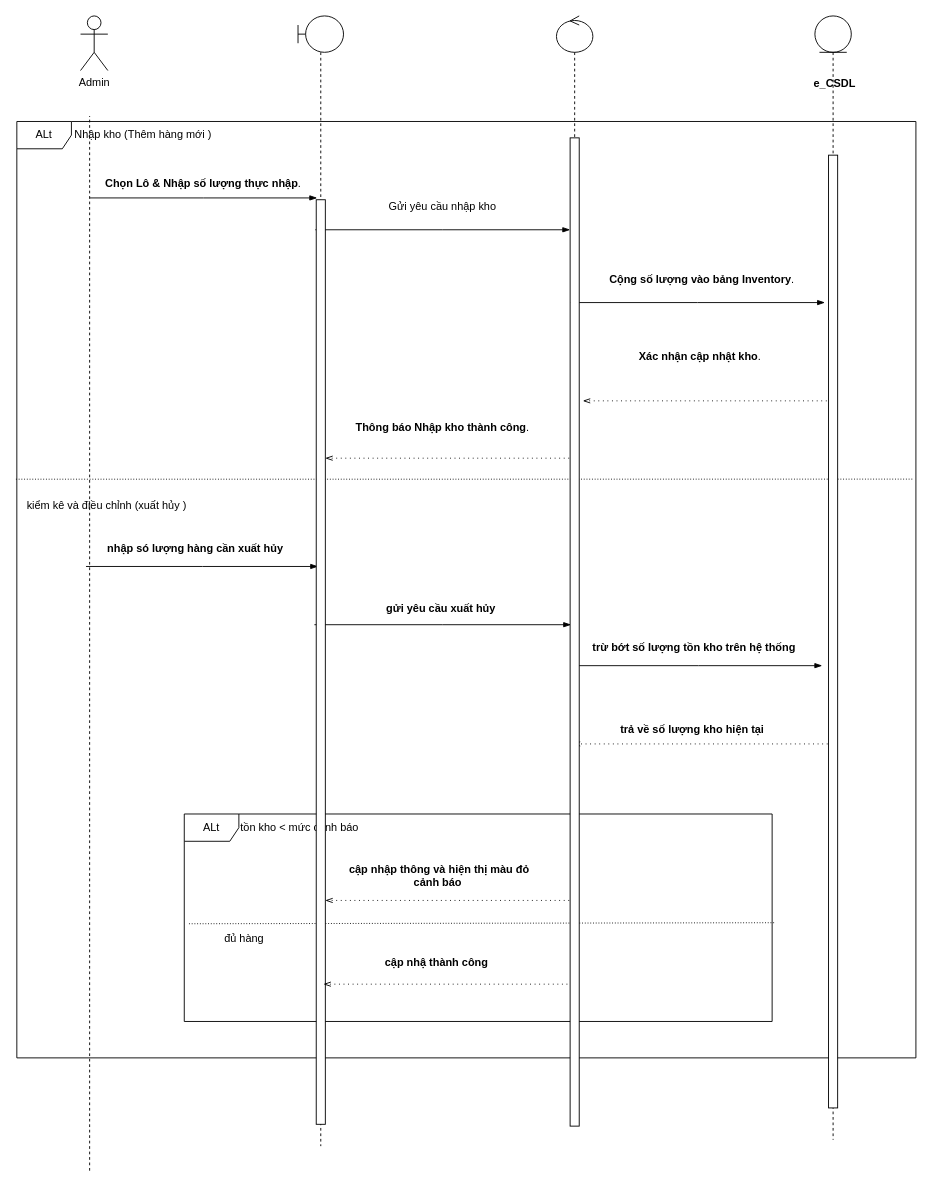
Some shapes in this 932 by 1188 pixel diagram are drawn without their labels. The shapes that lost their labels are listed below. From the top down, each one's box as (x1, y1, x2, y2) in pixels, then its label:
(297, 15, 344, 1146): quản lý kho
(556, 15, 593, 1126): xử lý kho
